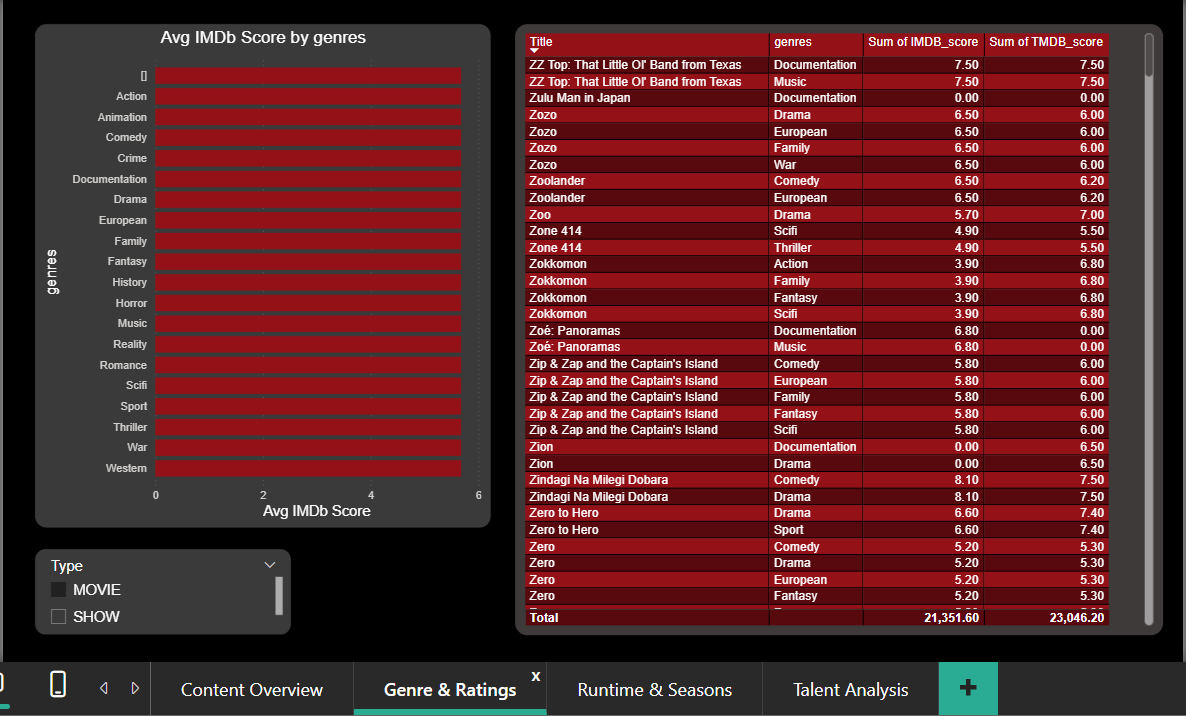

The page's visual inventory and layout, read from the dashboard file:
{"tool":"powerbi","page":{"name":"Genre & Ratings","canvas":[1280,720],"ordinal":1},"visuals":[{"type":"barChart","fields":{"Category":["titles.genres"],"Y":["Titles_Dim.Avg IMDb Score"]},"box":[34.1,28.1,495.3,547.4],"z":0},{"type":"tableEx","fields":{"Values":["Titles_Dim.title","titles.genres","Sum(Titles_Dim.imdb_score)","Sum(Titles_Dim.tmdb_score)"]},"box":[555.5,28.1,703.8,663.7],"z":1},{"type":"slicer","fields":{"Values":["Titles_Dim.type"]},"box":[34.1,597.6,278.7,94.2],"z":2}]}

Visuals, with their boxes on the page's 1280x720 design canvas (x1, y1, x2, y2). These are canvas units, not pixel positions in the 1186x716 screenshot, which may show the page scaled, cropped or inside an application window:
barChart - titles.genres x Titles_Dim.Avg IMDb Score: 34,28,529,576
tableEx - Titles_Dim.title x titles.genres: 556,28,1259,692
slicer - Titles_Dim.type: 34,598,313,692
